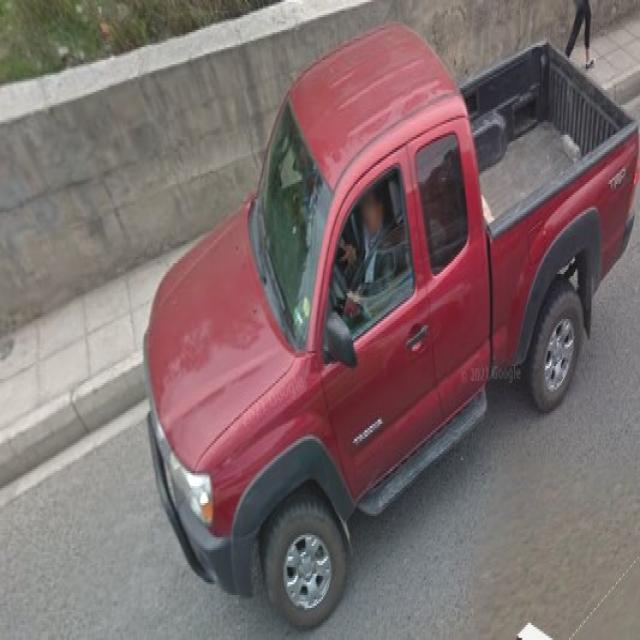car: (130, 27, 640, 640)
